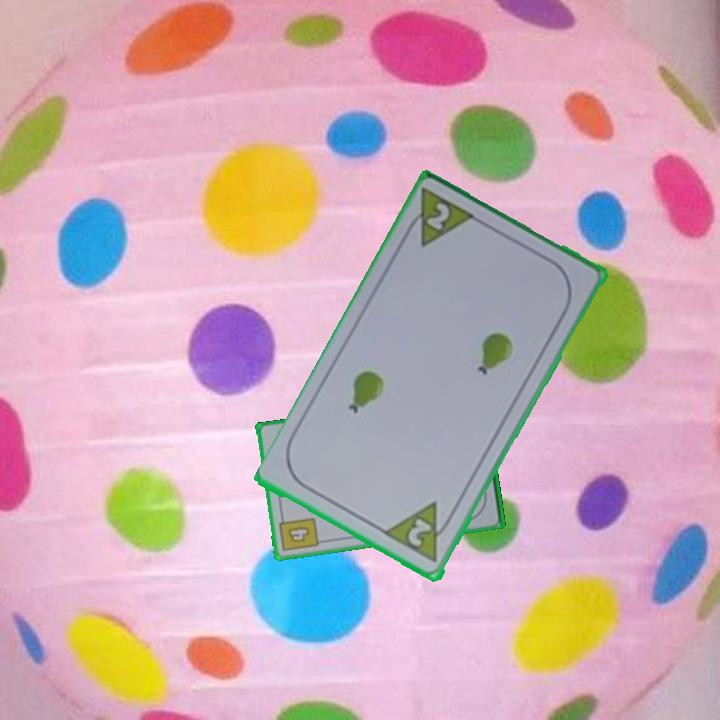2p: (399, 185, 480, 252), (404, 515, 436, 551)
4b: (276, 511, 321, 555)
